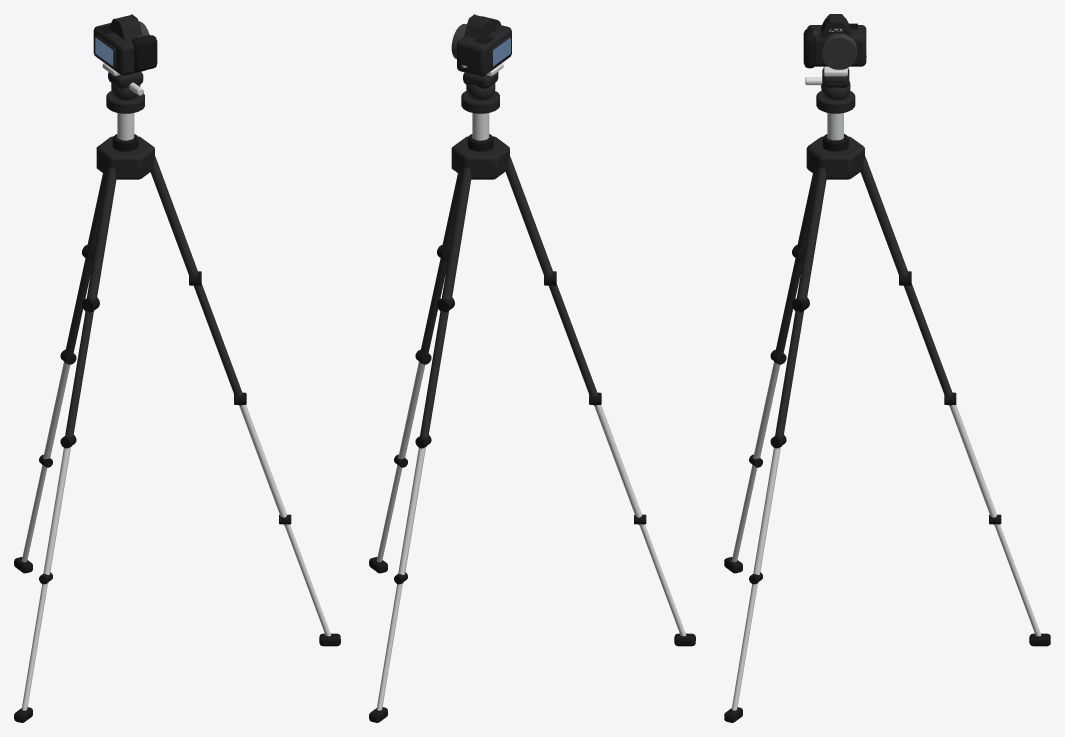
The model's file is panasonic_s5ii_tripie_foto.glb.
3 renders of one model, left to right at view 1: azimuth 30°, elevation 25°; view 2: azimuth 150°, elevation 25°; view 3: azimuth 270°, elevation 25°, orthographic.
Parts seen in each view (by area): view 1: Panasonic Lumix S5II en tripié de foto; view 2: Panasonic Lumix S5II en tripié de foto; view 3: Panasonic Lumix S5II en tripié de foto.
Part boxes in pixels (left/top/right/bottom): Panasonic Lumix S5II en tripié de foto: left=14, top=14, right=340, bottom=722; Panasonic Lumix S5II en tripié de foto: left=369, top=14, right=695, bottom=722; Panasonic Lumix S5II en tripié de foto: left=724, top=14, right=1050, bottom=722.
Size of the model in its own units: 0.7915 by 1.45 by 0.6873.
